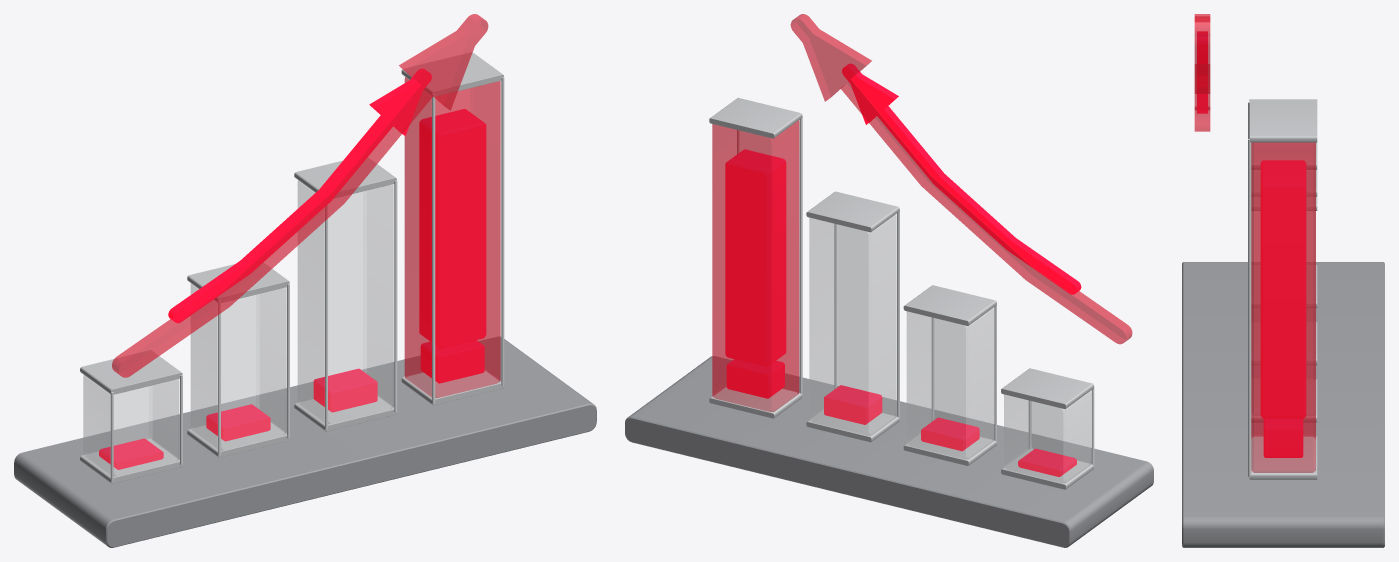
The model's file is 01-business-intelligence.glb.
3 renders of one model, left to right at view 1: azimuth 30°, elevation 25°; view 2: azimuth 150°, elevation 25°; view 3: azimuth 270°, elevation 25°, orthographic. The views are drawn at different scales.
Parts seen in each view (by area): view 1: BC brushed iron, BC clear optical glass, BC ruby optical glass, BC internal ruby light, BC satin iron, BC polished iron bevel; view 2: BC brushed iron, BC clear optical glass, BC ruby optical glass, BC internal ruby light, BC satin iron, BC polished iron bevel; view 3: BC brushed iron, BC ruby optical glass, BC internal ruby light, BC satin iron, BC clear optical glass, BC polished iron bevel.
Boxes of the visible parts, <box> form: BC brushed iron: <box>14,336,596,547</box>; BC clear optical glass: <box>83,180,393,475</box>; BC ruby optical glass: <box>112,14,500,397</box>; BC internal ruby light: <box>99,68,486,469</box>; BC satin iron: <box>80,52,503,483</box>; BC polished iron bevel: <box>110,77,504,481</box>; BC brushed iron: <box>625,356,1153,547</box>; BC clear optical glass: <box>809,214,1090,482</box>; BC ruby optical glass: <box>712,14,1132,411</box>; BC internal ruby light: <box>725,63,1081,476</box>; BC satin iron: <box>709,97,1093,489</box>; BC polished iron bevel: <box>737,115,1094,466</box>; BC brushed iron: <box>1182,262,1384,547</box>; BC ruby optical glass: <box>1194,14,1315,472</box>; BC internal ruby light: <box>1197,31,1306,457</box>; BC satin iron: <box>1249,99,1317,479</box>; BC clear optical glass: <box>1252,170,1315,380</box>; BC polished iron bevel: <box>1248,102,1251,477</box>.
Size of the model in its own units: 2.2 by 1.86 by 0.72.
